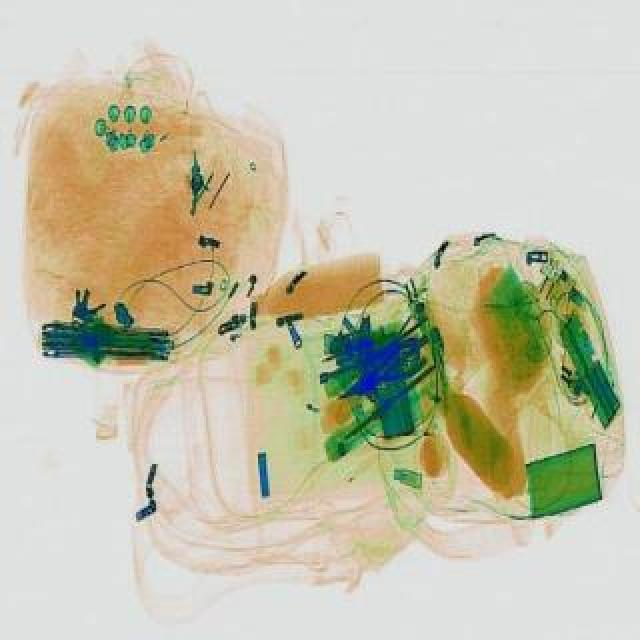wrench: (326, 330, 434, 414)
